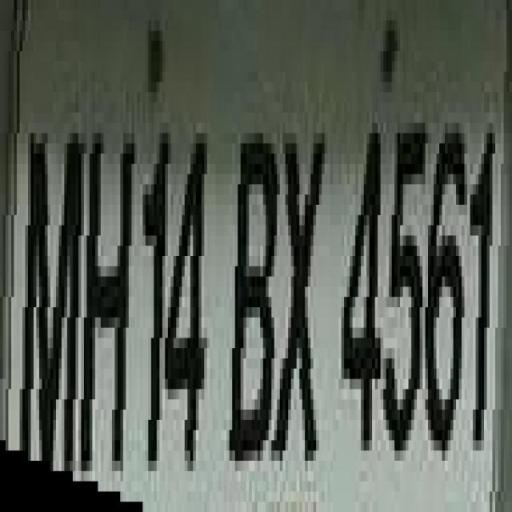number plate: (8, 30, 512, 512)
